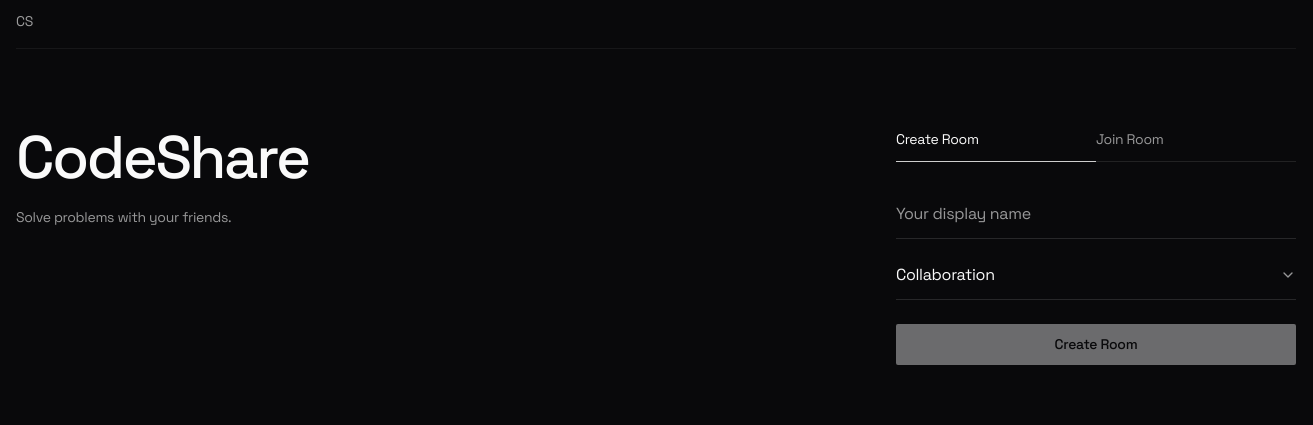
Join tab - join flow › shows error when room not found
Click the tab with test id "tab-join": (1196, 146) [1096, 129, 1296, 162]
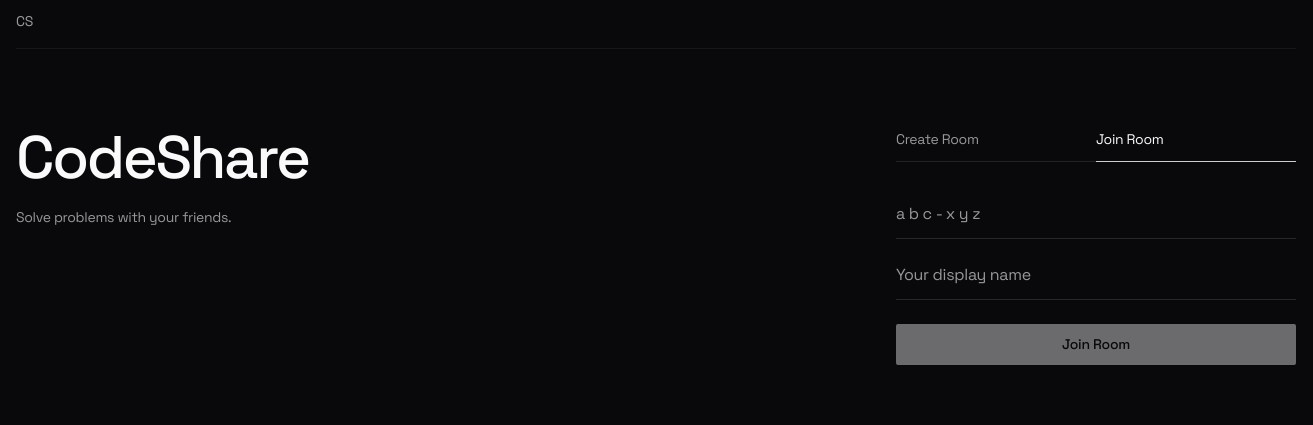
In the field with test id "room-code-input": (1096, 220) [896, 202, 1296, 239], type "abcxyz"
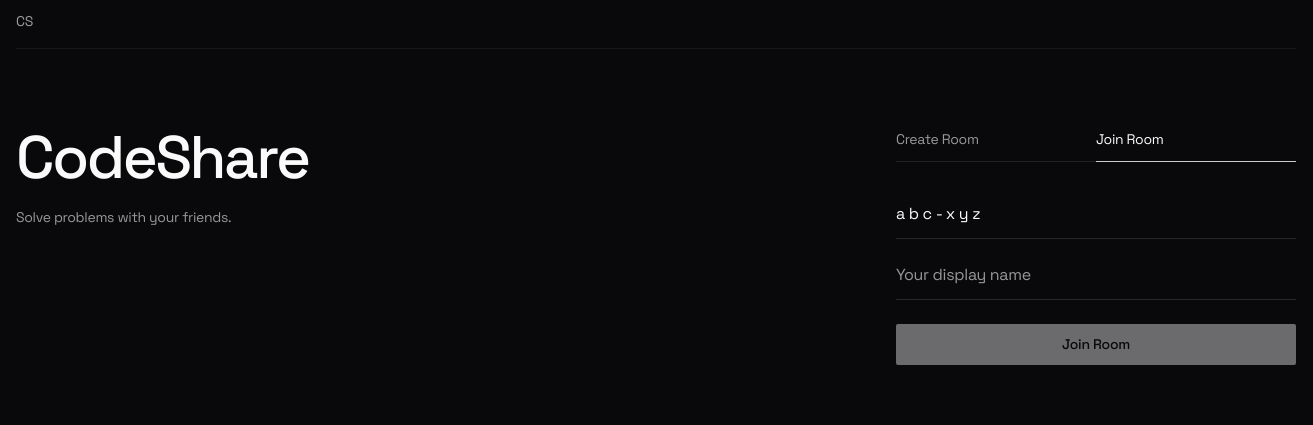
In the field with placeholder "Your display name": (1096, 282) [896, 263, 1296, 300], type "Alice"
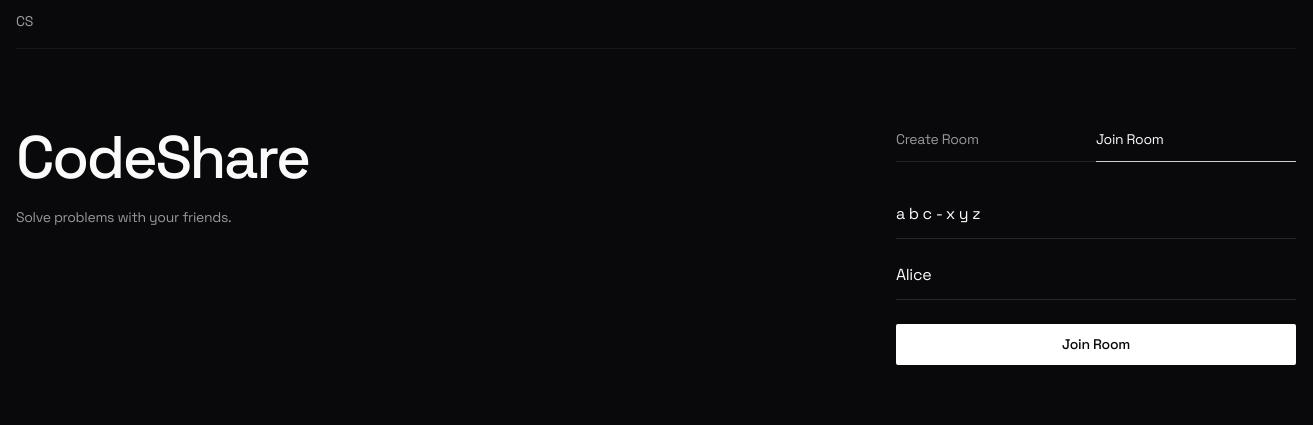
Click the button with test id "join-room-button": (1096, 344) [896, 324, 1296, 365]
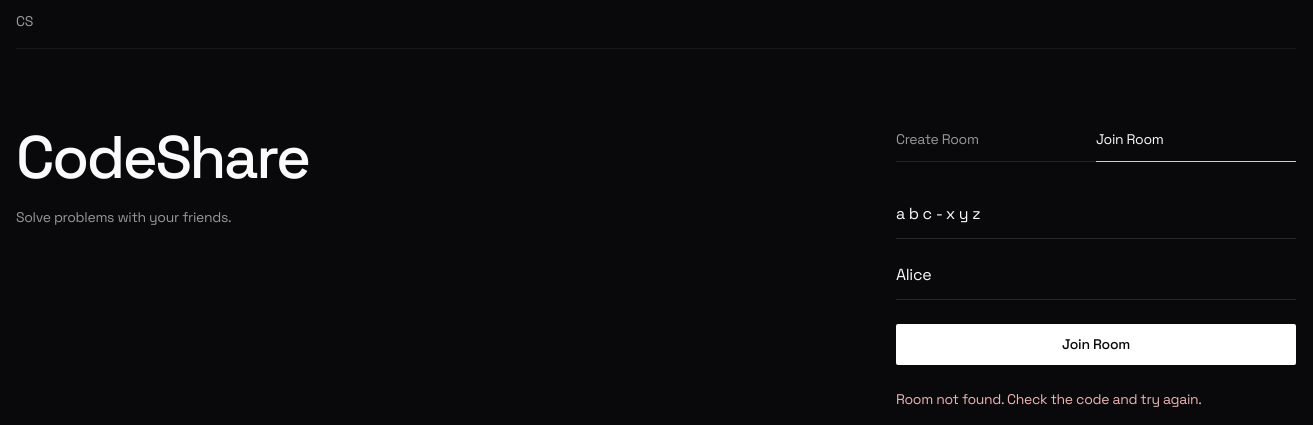
Now the text "Room not found. Check the code and try again." is shown, box [896, 390, 1202, 408]
